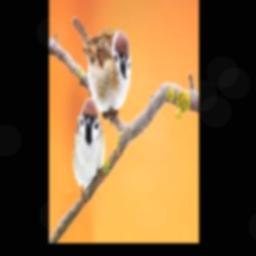Sparrow: (72, 17, 131, 126), (73, 97, 105, 209)
